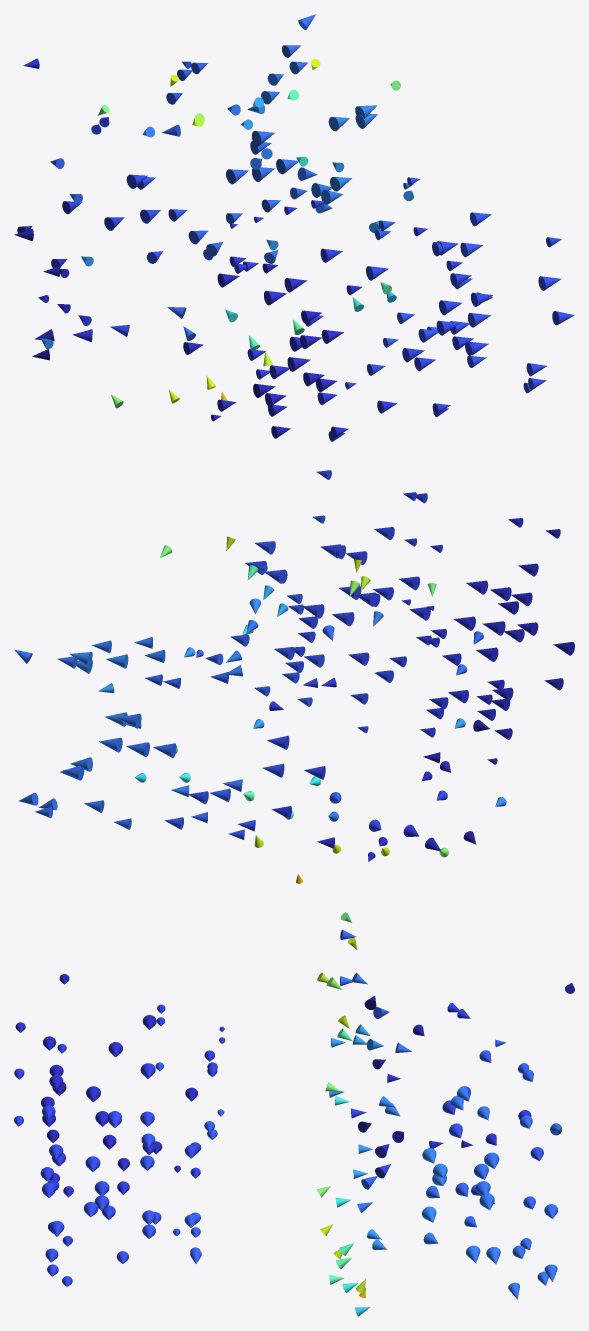
The model's file is LineasCorrienteN2-H2O_mh2-6.88_V-1.1.glb.
3 views of the same model, one above another, from view 1: azimuth 30°, elevation 25°; view 2: azimuth 150°, elevation 25°; view 3: azimuth 270°, elevation 25° (orthographic). The views are drawn at different scales.
Bounding box in the file's own units: 0.000971 × 0.000795 × 0.00122.
Materials: 2 (2 with a texture image).
